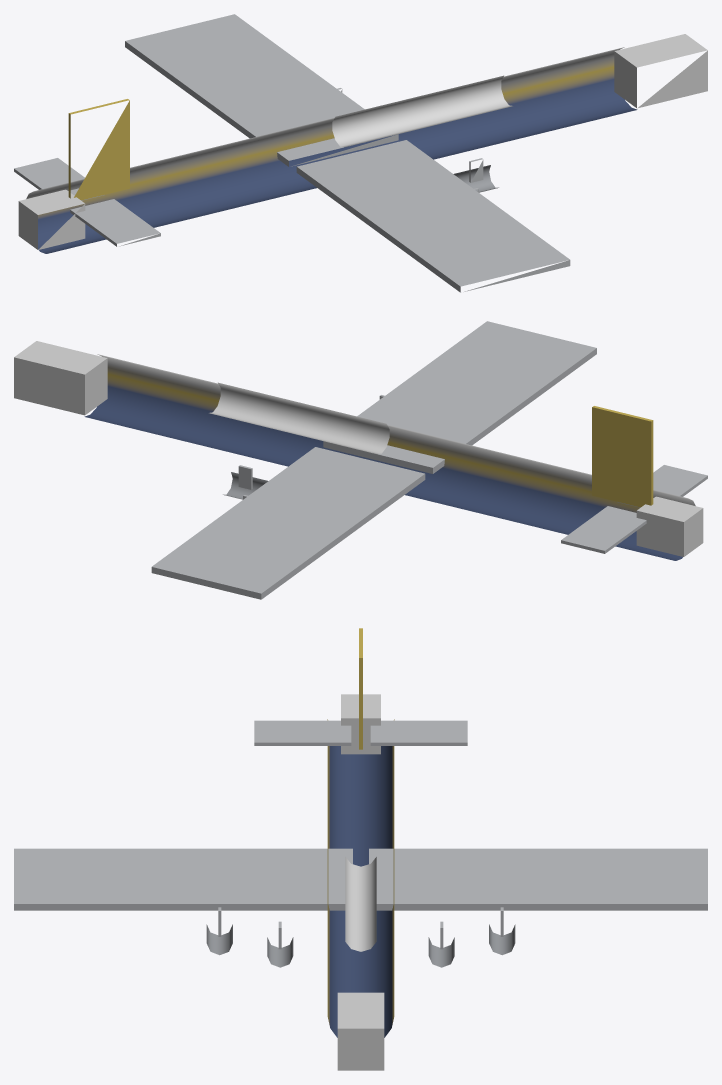
3 renders of one model, top to bottom at view 1: azimuth 30°, elevation 25°; view 2: azimuth 150°, elevation 25°; view 3: azimuth 270°, elevation 25°, orthographic. The views are drawn at different scales.
Bounding box in the file's own units: 79.1 × 16.29 × 68.8.
